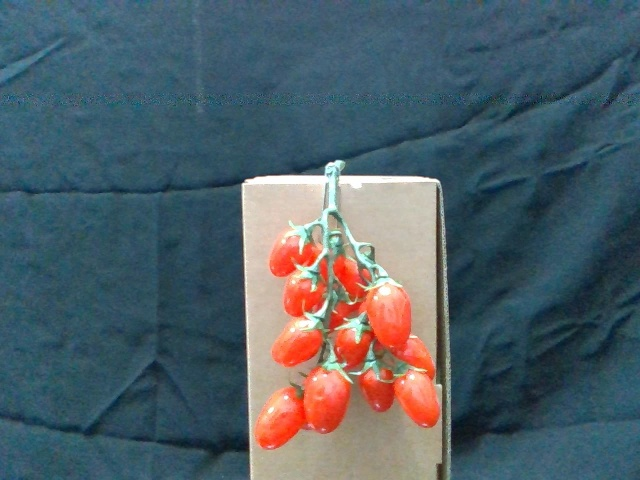tomato: (368, 279, 413, 348), (256, 385, 306, 447), (305, 368, 351, 434), (397, 368, 440, 430), (271, 319, 323, 366), (270, 224, 313, 278), (285, 263, 325, 318), (361, 362, 398, 415), (338, 316, 371, 365), (401, 337, 437, 378)
